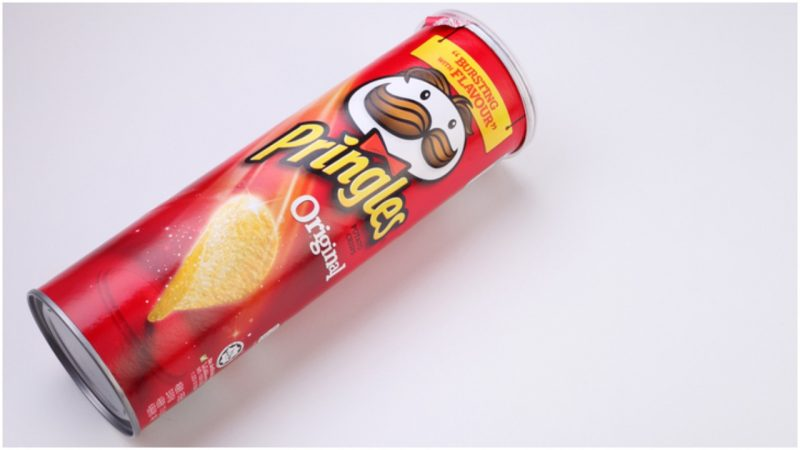pringle: (19, 11, 543, 442)
